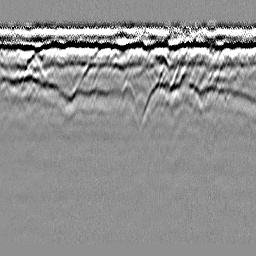cavity: (114, 75, 141, 124)
